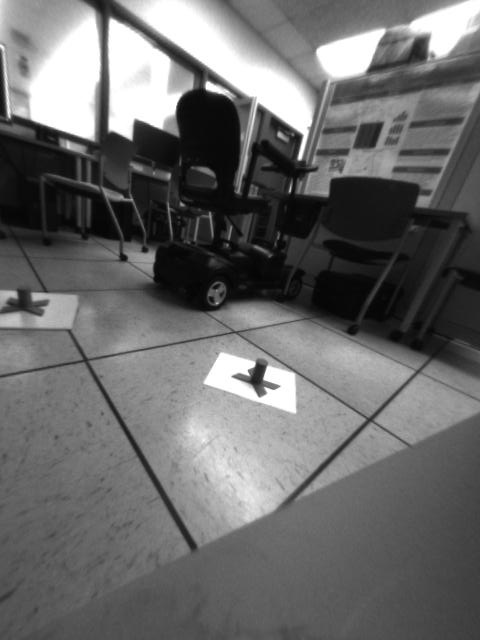X: (230, 357, 280, 396), (2, 284, 49, 319)
